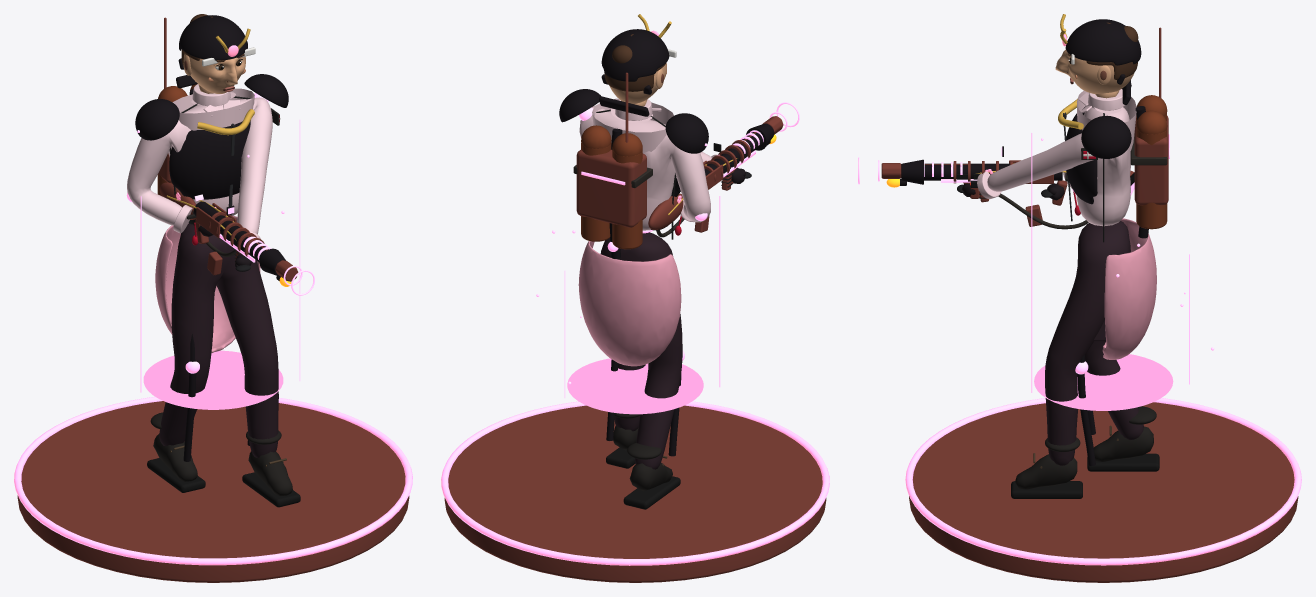
The model's file is braender_sakura.glb.
The picture shows the model from 3 angles, left to right: view 1: azimuth 30°, elevation 25°; view 2: azimuth 150°, elevation 25°; view 3: azimuth 270°, elevation 25°; orthographic projection. The views are drawn at different scales.
Visible parts, largest first — view 1: fod_net, menneske_net, op2.001_net, op4_net, hoved_net, vaaben_net, op4.001_net, op3.001_net, op2_net, op4.002_net; view 2: fod_net, menneske_net, op4_net, op3_net, hoved_net, op2.001_net, vaaben_net, op4.001_net, op4.002_net, op2_net, op3.001_net; view 3: fod_net, menneske_net, hoved_net, op4_net, op2.001_net, op3_net, vaaben_net, op4.001_net.
Part boxes in pixels (<box>): fod_net: <box>14,396,412,582</box>; menneske_net: <box>127,84,300,507</box>; op2.001_net: <box>135,74,288,199</box>; op4_net: <box>137,120,300,409</box>; hoved_net: <box>176,14,255,93</box>; vaaben_net: <box>159,182,291,286</box>; op4.001_net: <box>126,89,268,461</box>; op3.001_net: <box>194,194,298,281</box>; op2_net: <box>166,192,239,275</box>; op4.002_net: <box>219,234,314,295</box>; fod_net: <box>441,401,829,582</box>; menneske_net: <box>573,98,751,509</box>; op4_net: <box>536,143,720,414</box>; op3_net: <box>576,72,646,227</box>; hoved_net: <box>599,14,676,116</box>; op2.001_net: <box>559,89,708,196</box>; vaaben_net: <box>648,123,776,230</box>; op4.001_net: <box>579,107,707,456</box>; op4.002_net: <box>642,102,799,233</box>; op2_net: <box>668,143,737,235</box>; op3.001_net: <box>703,116,783,189</box>; fod_net: <box>905,398,1301,582</box>; menneske_net: <box>957,89,1167,498</box>; hoved_net: <box>1055,14,1141,104</box>; op4_net: <box>1031,133,1214,410</box>; op2.001_net: <box>1058,83,1131,204</box>; op3_net: <box>1134,27,1169,205</box>; vaaben_net: <box>886,159,1134,205</box>; op4.001_net: <box>1075,106,1148,465</box>.
Size of the model in its own units: 1.94 by 2.59 by 2.17.
